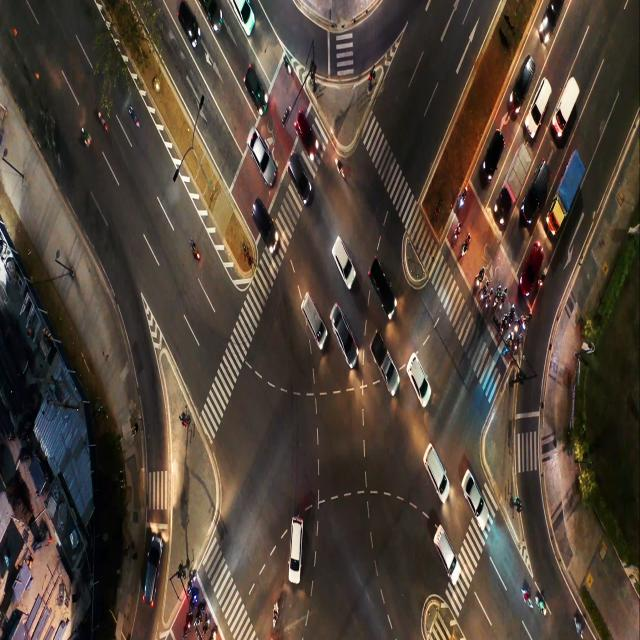motorcycle: (270, 603, 282, 625), (522, 592, 532, 608), (194, 612, 205, 626), (538, 600, 549, 614), (335, 160, 344, 177), (453, 219, 461, 238), (191, 241, 199, 259), (465, 235, 471, 257), (187, 578, 197, 591), (210, 625, 218, 640), (461, 190, 467, 208), (206, 612, 211, 633), (502, 284, 507, 305), (501, 316, 506, 337), (478, 266, 483, 286), (510, 304, 516, 320), (183, 621, 190, 634), (516, 334, 520, 356), (542, 268, 547, 285), (497, 284, 501, 304), (508, 332, 511, 353), (521, 314, 526, 326), (488, 290, 492, 303), (189, 598, 200, 602), (483, 284, 487, 294)
other: (559, 164, 573, 217), (560, 79, 574, 121), (510, 156, 520, 200)
truck: (513, 67, 527, 102), (484, 134, 498, 168), (530, 169, 542, 208), (334, 242, 350, 270), (298, 115, 312, 146), (288, 529, 304, 556), (378, 270, 391, 303), (439, 533, 453, 563), (334, 313, 350, 339), (251, 76, 265, 104), (430, 459, 445, 485), (378, 346, 391, 374), (530, 89, 548, 108), (412, 361, 424, 388), (288, 156, 302, 178), (256, 203, 268, 228), (468, 480, 479, 507), (526, 247, 534, 284), (254, 140, 264, 162), (307, 302, 316, 322)
